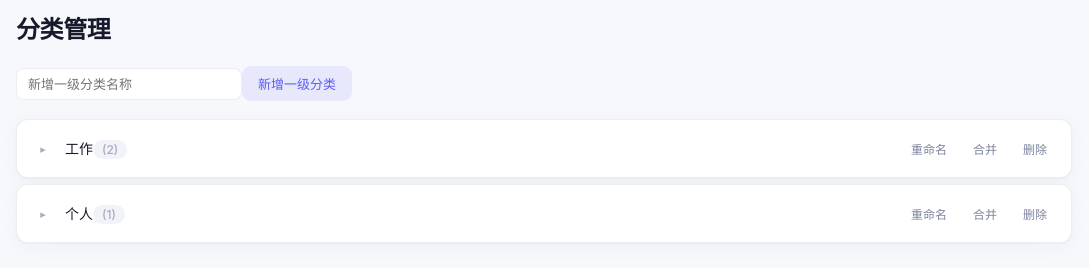
CategoryManager › enters rename mode and shows save/cancel
This screenshot has width=1089, height=268.
Check: the text "工作" is shown, box [65,140,93,157]
Click the button "重命名" in the row of "工作" at point(929, 149), box [901,136,957,161]
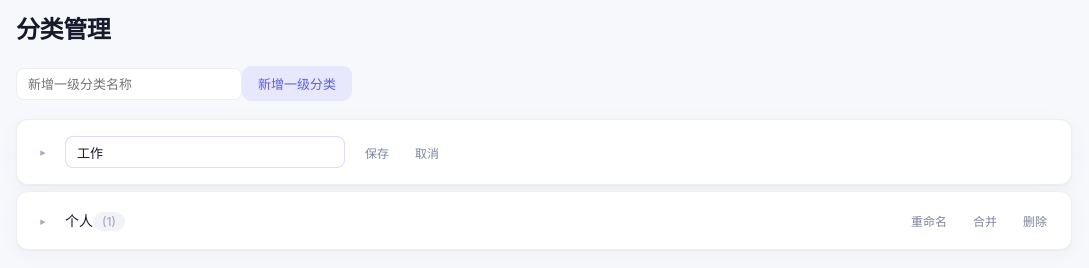
Check: the button "保存" is shown, box [355,140,399,165]
Check: the button "取消" is shown, box [405,140,449,165]
